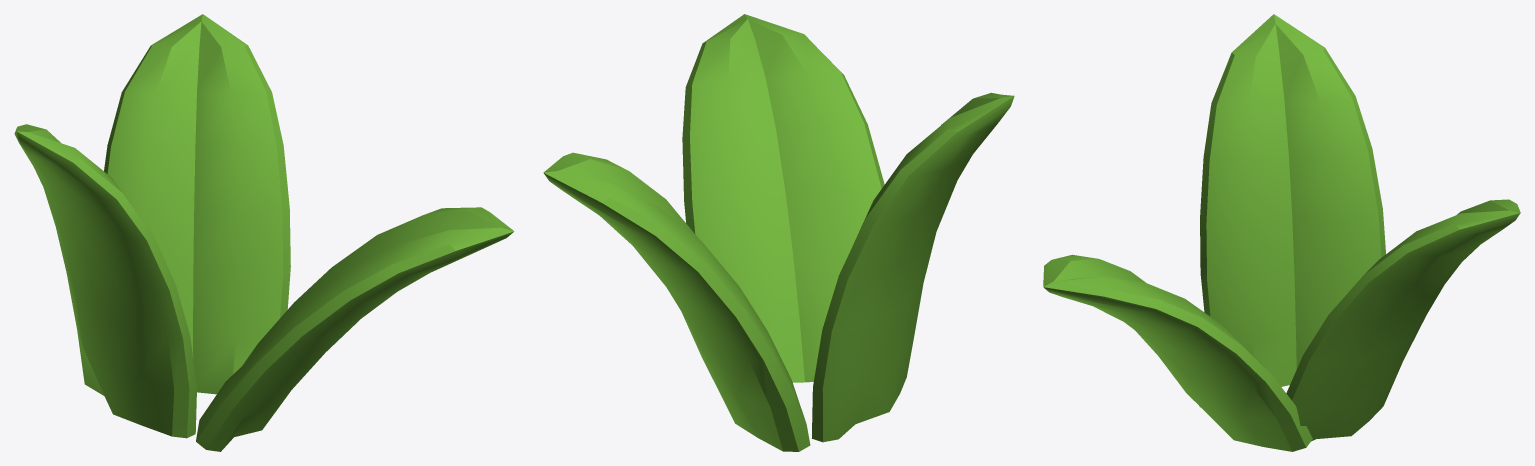
The model's file is Grass 1.fbx.
The picture shows the model from 3 angles, left to right: view 1: azimuth 30°, elevation 25°; view 2: azimuth 150°, elevation 25°; view 3: azimuth 270°, elevation 25°; orthographic projection. The views are drawn at different scales.
Parts seen in each view (by area): view 1: Плоскость; view 2: Плоскость; view 3: Плоскость.
Part boxes in pixels (x1=…): Плоскость: x1=14, y1=14, x2=514, y2=451; Плоскость: x1=543, y1=14, x2=1014, y2=451; Плоскость: x1=1043, y1=14, x2=1520, y2=451.
Bounding box in the file's own units: 279 × 234 × 315.
